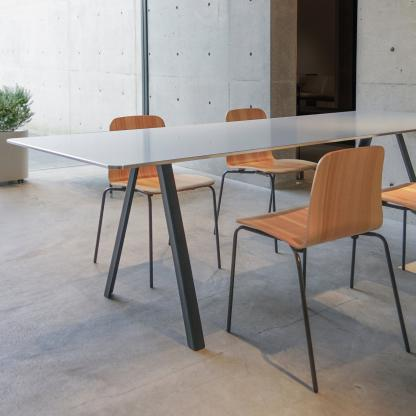table: (0, 103, 415, 355)
